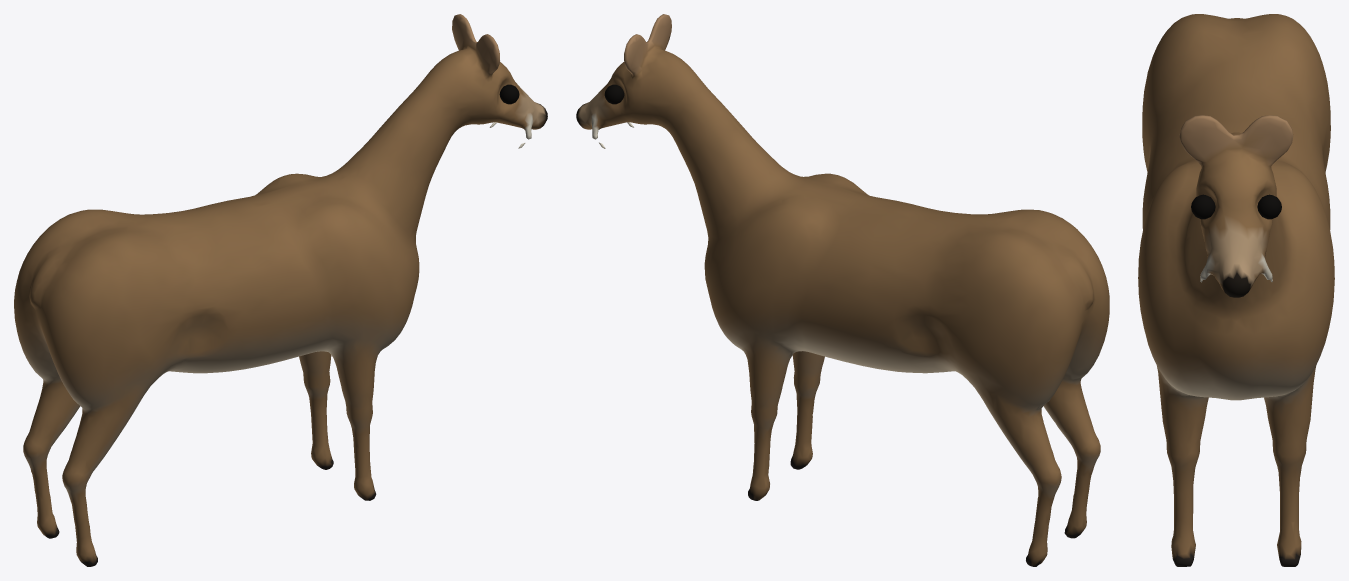
The model's file is deer.glb.
3 views of the same model, side by side, from view 1: azimuth 30°, elevation 25°; view 2: azimuth 150°, elevation 25°; view 3: azimuth 270°, elevation 25° (orthographic). The views are drawn at different scales.
Parts seen in each view (by area): view 1: deer; view 2: deer; view 3: deer.
Part boxes in pixels (bbox=[...]): deer: bbox=[14, 14, 547, 566]; deer: bbox=[576, 14, 1109, 566]; deer: bbox=[1138, 14, 1334, 566].
Bounding box in the file's own units: 1 × 0.7922 × 0.2672.
